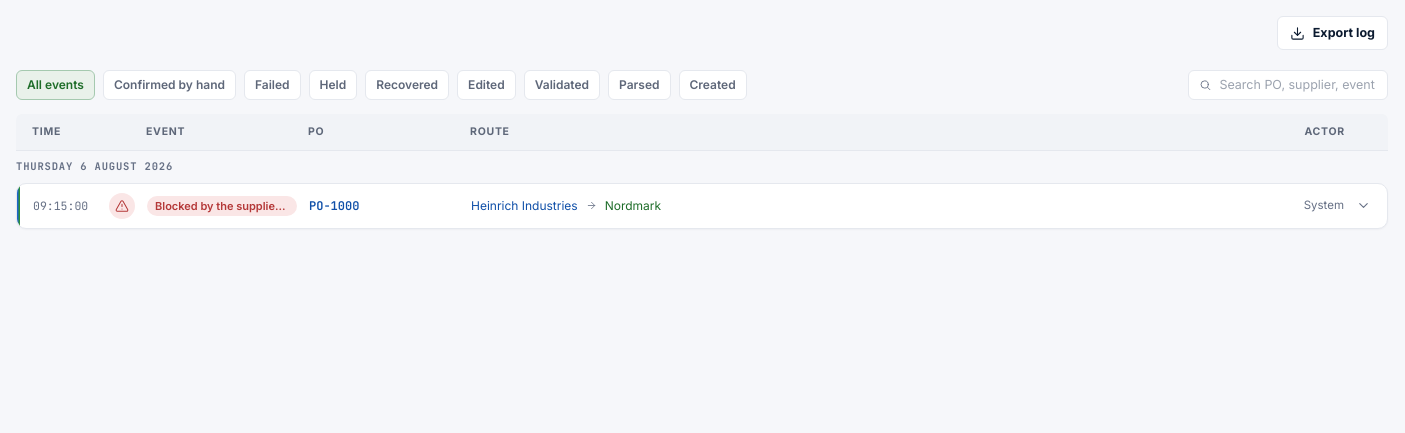
Test: expanded failure row — the four shapes are distinguishable › AcceptanceBlocked states how far the order got and what to do now
The width and height of the screenshot is (1405, 433).
Click the button "PO-1000" at (61, 205), box [17,184,1387,228]
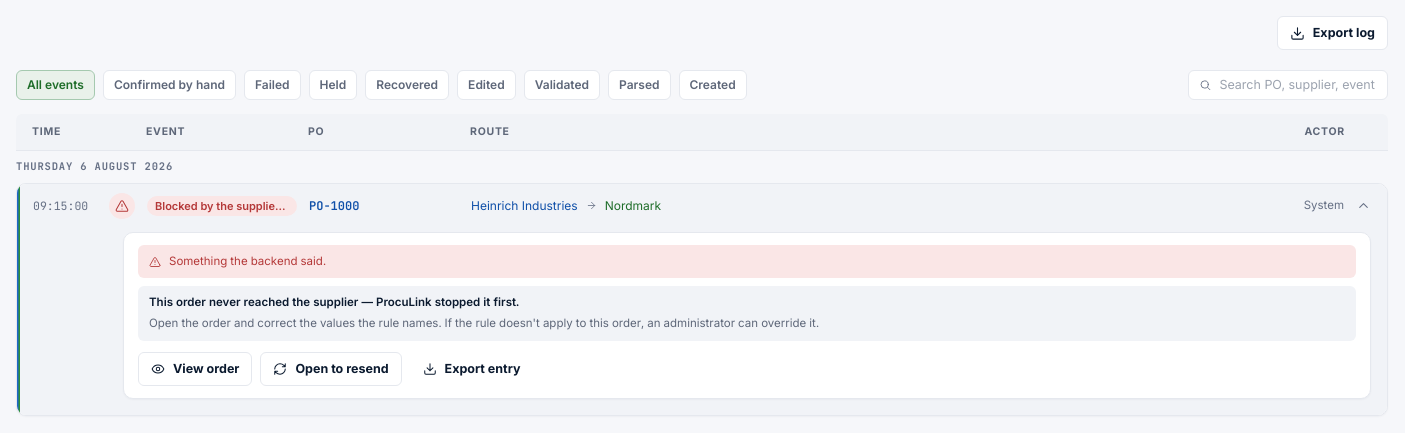
expect the element with test id "audit-remedy" is shown: met, box [138,286,1356,341]
expect the element with test id "audit-remedy" shows "This order never reached the supplier — ProcuLink stopped it first.": met, box [149,295,519,309]
